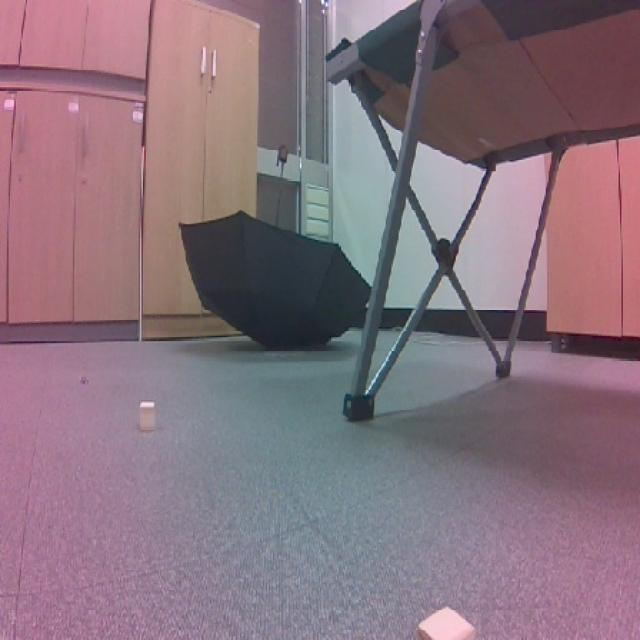obstacle: (135, 397, 163, 436)
